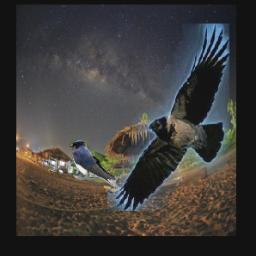Crow: (107, 24, 229, 212)
Swallow: (70, 140, 122, 192)
